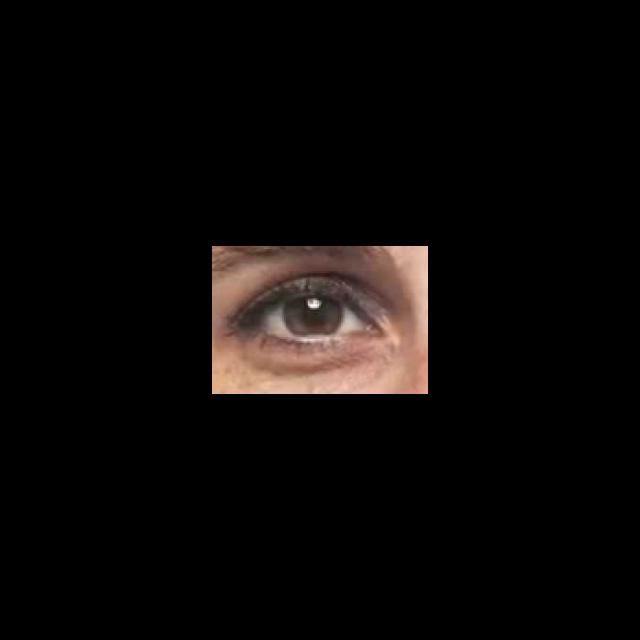eye: (261, 295, 367, 339)
iris: (284, 297, 342, 336)
